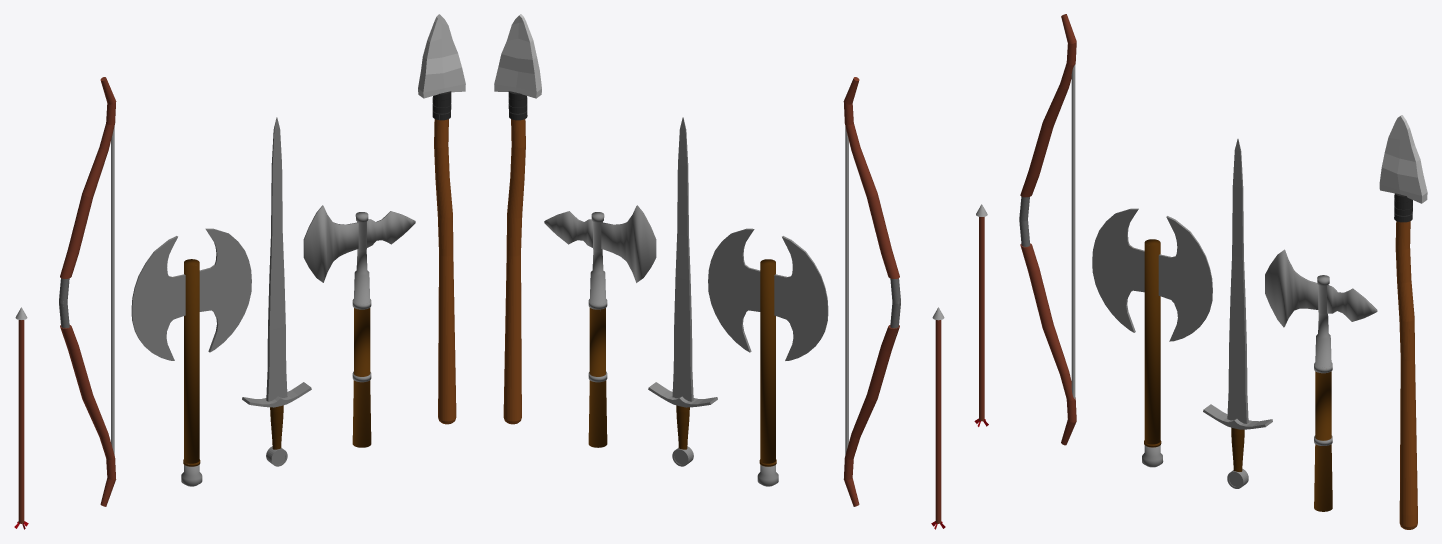
The model's file is weapon_pack.glb.
The picture shows the model from 3 angles, left to right: view 1: azimuth 30°, elevation 25°; view 2: azimuth 150°, elevation 25°; view 3: azimuth 330°, elevation 25°; orthographic projection.
Parts seen in each view (by area): view 1: DoubleAxe, Spear, Axe, Bow, Sword, Arrow; view 2: DoubleAxe, Spear, Axe, Bow, Sword, Arrow; view 3: DoubleAxe, Spear, Axe, Bow, Sword, Arrow.
Part boxes in pixels (box(x1,y1,x2,y2)): DoubleAxe: box(131, 228, 251, 486); Spear: box(418, 14, 465, 424); Axe: box(303, 205, 415, 447); Bow: box(59, 77, 116, 506); Sword: box(242, 117, 311, 466); Arrow: box(14, 307, 28, 529); DoubleAxe: box(708, 228, 828, 486); Spear: box(494, 14, 541, 424); Axe: box(544, 205, 656, 447); Bow: box(843, 77, 900, 506); Sword: box(648, 117, 717, 466); Arrow: box(931, 307, 945, 529); DoubleAxe: box(1092, 208, 1212, 467); Spear: box(1379, 115, 1427, 529); Axe: box(1265, 249, 1377, 511); Bow: box(1019, 14, 1076, 445); Sword: box(1203, 139, 1272, 488); Arrow: box(974, 204, 988, 426).
Size of the model in its own units: 1.33 by 1.22 by 0.0544.
Materials: 6 (6 with a texture image).
